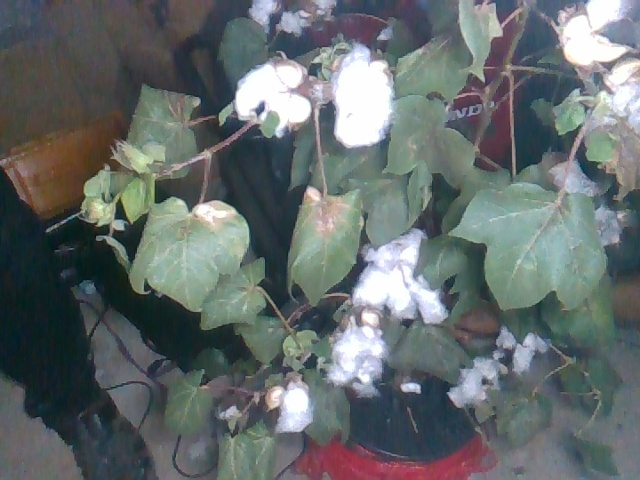cotton: (349, 227, 454, 327), (326, 43, 395, 149), (315, 307, 389, 399), (233, 57, 312, 138), (557, 1, 637, 66), (442, 354, 511, 411), (595, 57, 640, 136), (266, 382, 315, 437), (511, 328, 554, 373), (244, 1, 280, 35), (488, 324, 518, 360), (275, 10, 312, 37), (310, 1, 339, 22)
